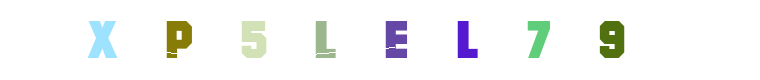5: (242, 0, 322, 80)
7: (424, 0, 504, 80)
9: (572, 0, 652, 80)
E: (359, 0, 439, 80)
L: (342, 0, 422, 80), (395, 0, 475, 80)
P: (139, 0, 219, 80)
X: (71, 0, 151, 80)
